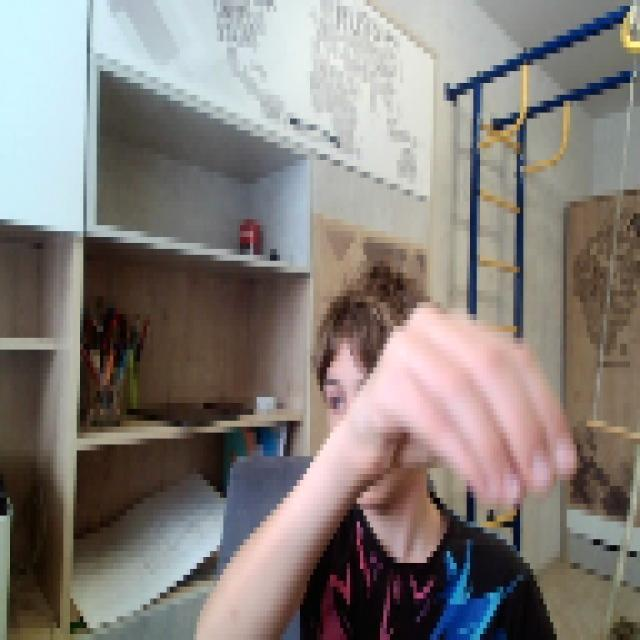left_click: (386, 290, 576, 510)
